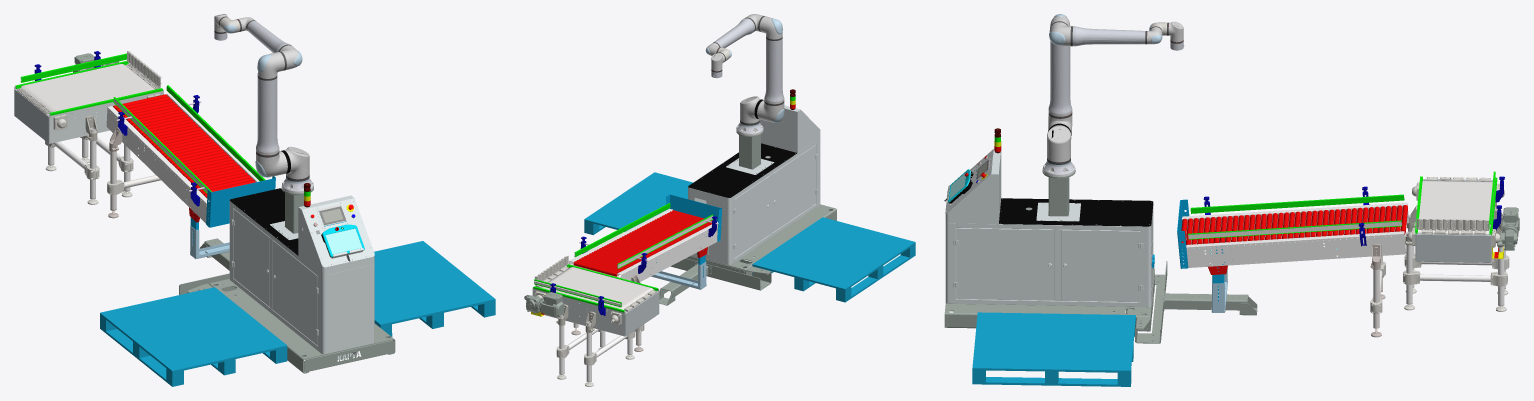
Rendered from 18-base-esteira-reta-convertedor-esquerdo.glb.
The picture shows the model from 3 angles, left to right: view 1: azimuth 30°, elevation 25°; view 2: azimuth 150°, elevation 25°; view 3: azimuth 270°, elevation 25°; orthographic projection. The views are drawn at different scales.
Visible parts, largest first — view 1: world; view 2: world; view 3: world.
Boxes of the visible parts, x1,y1,x2,y2 form: world: [14, 14, 495, 386]; world: [524, 14, 915, 386]; world: [944, 14, 1519, 386].
Size of the model in its own units: 2856 by 2349 by 4356.
